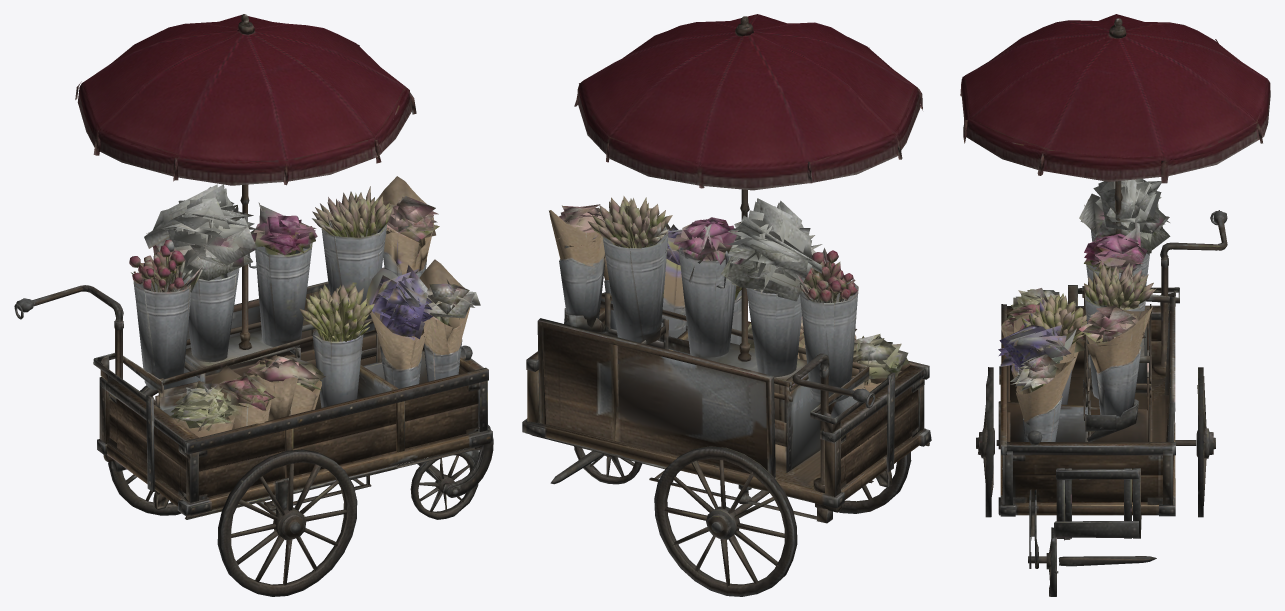
The model's file is FlowerCart.glb.
3 renders of one model, left to right at view 1: azimuth 30°, elevation 25°; view 2: azimuth 150°, elevation 25°; view 3: azimuth 270°, elevation 25°, orthographic. The views are drawn at different scales.
Size of the model in its own units: 0.7197 by 0.9512 by 0.5312.
1 material, 1 textured.
